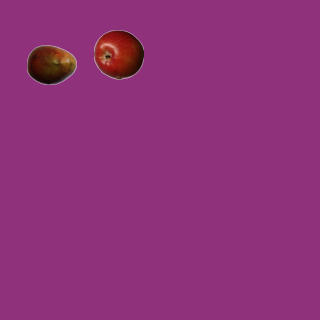Apple Braeburn: (93, 29, 143, 79)
Mango Red: (26, 39, 76, 89)
